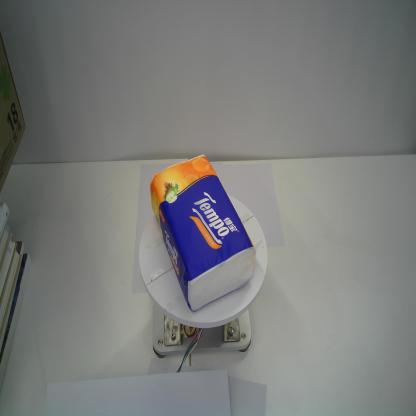Tissue: (149, 152, 257, 314)
